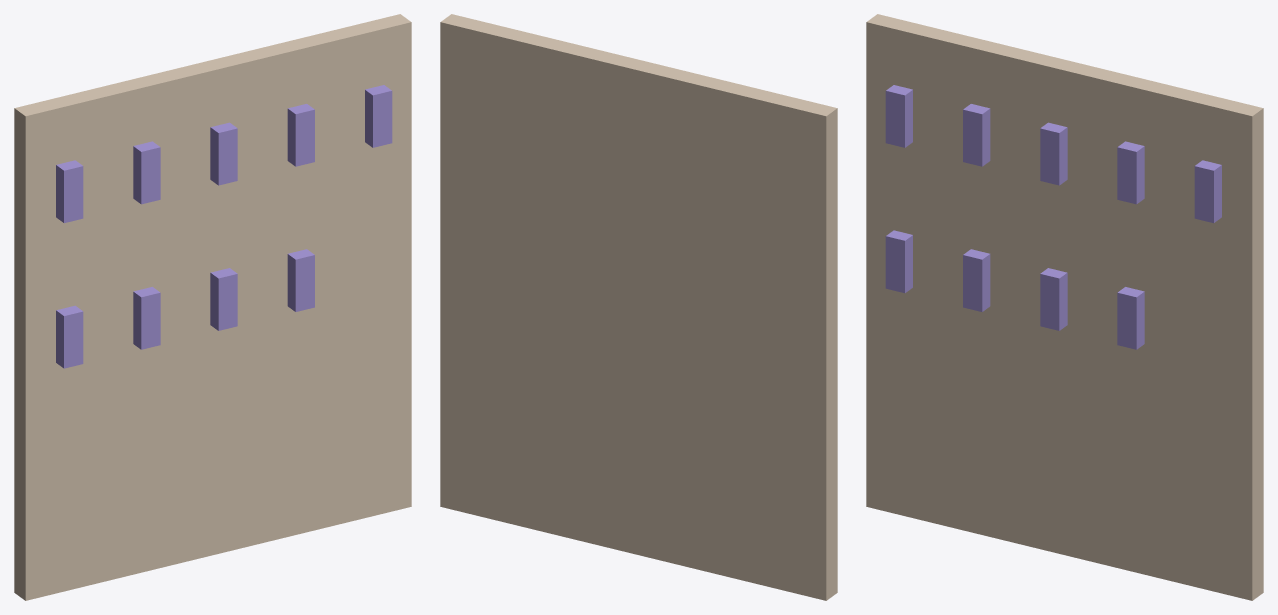
File: wall.gltf
3 renders of one model, left to right at view 1: azimuth 30°, elevation 25°; view 2: azimuth 150°, elevation 25°; view 3: azimuth 330°, elevation 25°, orthographic.
Visible parts, largest first — view 1: surface, droplet_2, droplet_1, droplet_3, droplet_5, droplet_0, droplet_6, droplet_7, droplet_4, droplet_8; view 2: surface; view 3: surface, droplet_2, droplet_1, droplet_3, droplet_4, droplet_5, droplet_7, droplet_8, droplet_0, droplet_6.
Part boxes in pixels (x1,y1,x2,y2): surface: (14, 14, 411, 600); droplet_2: (210, 122, 237, 185); droplet_1: (133, 141, 160, 204); droplet_3: (287, 104, 314, 166); droplet_5: (56, 305, 83, 368); droplet_0: (56, 160, 83, 223); droplet_6: (133, 287, 160, 349); droplet_7: (210, 268, 237, 330); droplet_4: (365, 85, 392, 147); droplet_8: (287, 249, 314, 311); surface: (440, 14, 837, 600); surface: (866, 14, 1263, 600); droplet_2: (1040, 122, 1067, 185); droplet_1: (963, 104, 990, 166); droplet_3: (1117, 141, 1144, 204); droplet_4: (1194, 160, 1221, 223); droplet_5: (885, 230, 912, 293); droplet_7: (1040, 268, 1067, 330); droplet_8: (1117, 287, 1144, 349); droplet_0: (885, 85, 912, 147); droplet_6: (963, 249, 990, 311).
Bounding box in the file's own units: 0.5 × 0.6 × 0.0465.
